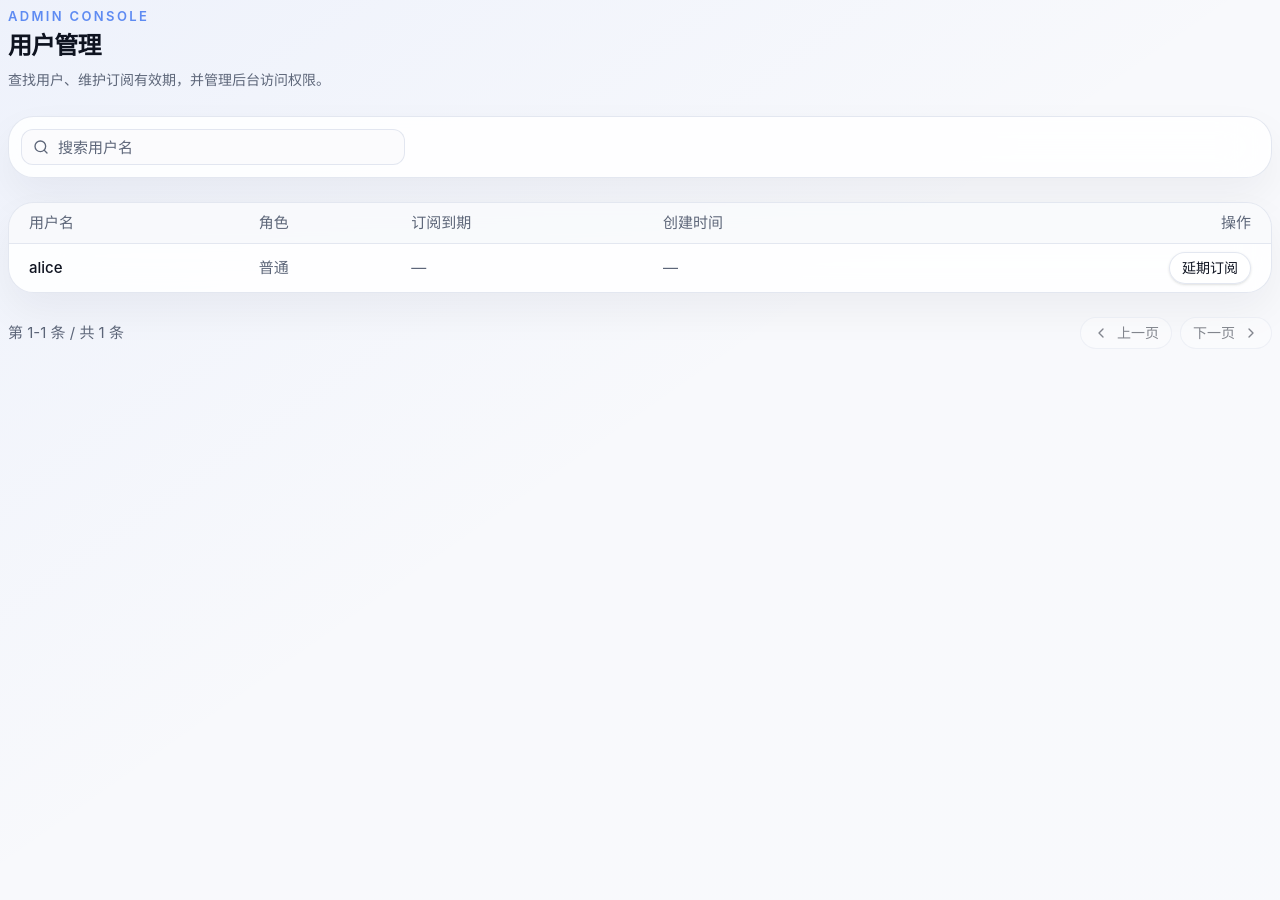
UsersPage › 延期订阅失败时在对话框内展示错误，且不关闭对话框
The image size is (1280, 900).
Expected: the text "alice" is shown, x1=9 y1=243 x2=251 y2=292
Click the button "延期订阅". click: coordinates (1210, 268)
box: x1=1169 y1=252 x2=1251 y2=284
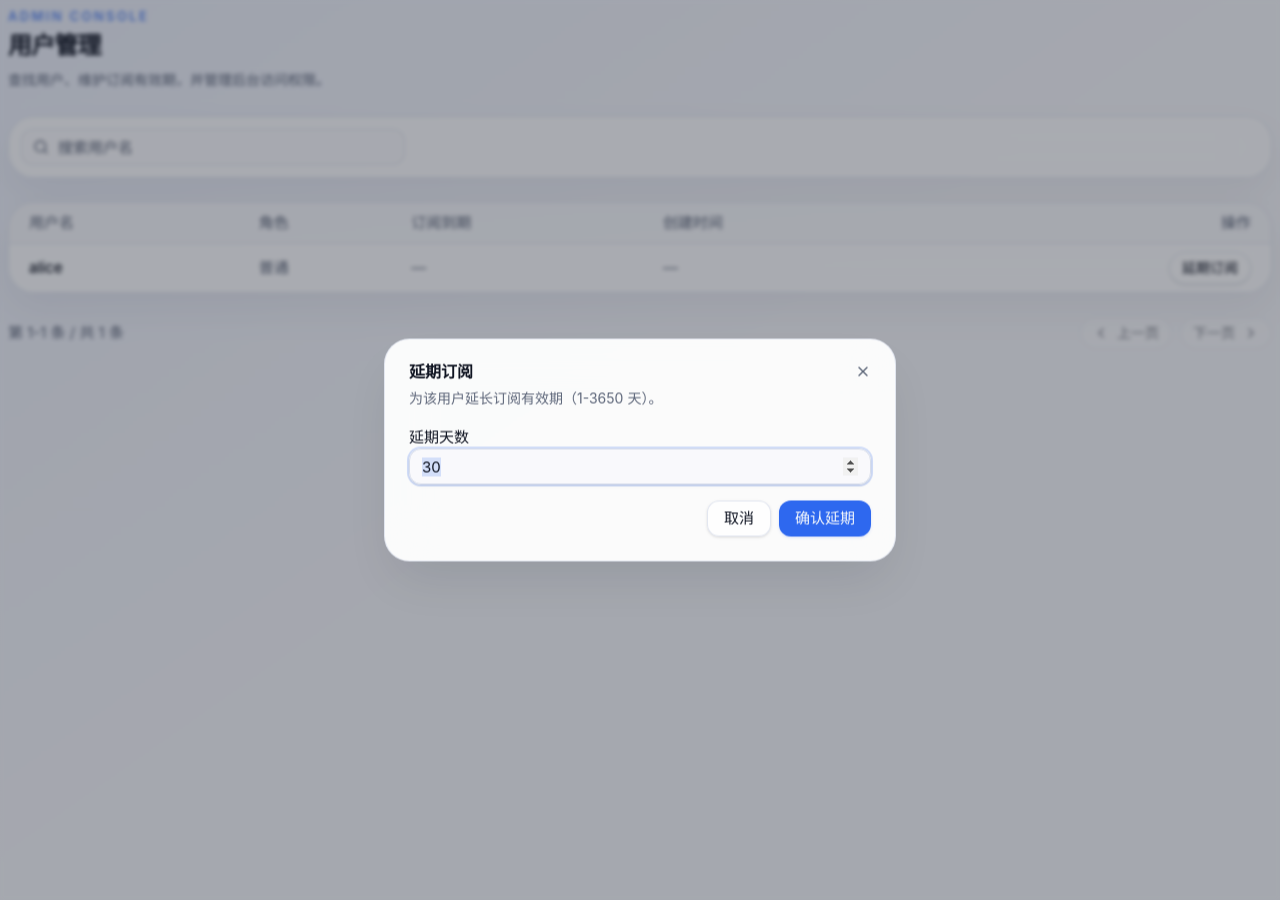
Now the heading "延期订阅" is shown, box x1=409 y1=362 x2=473 y2=382
Click the button "确认延期". click: coordinates (825, 518)
box: x1=779 y1=500 x2=871 y2=536
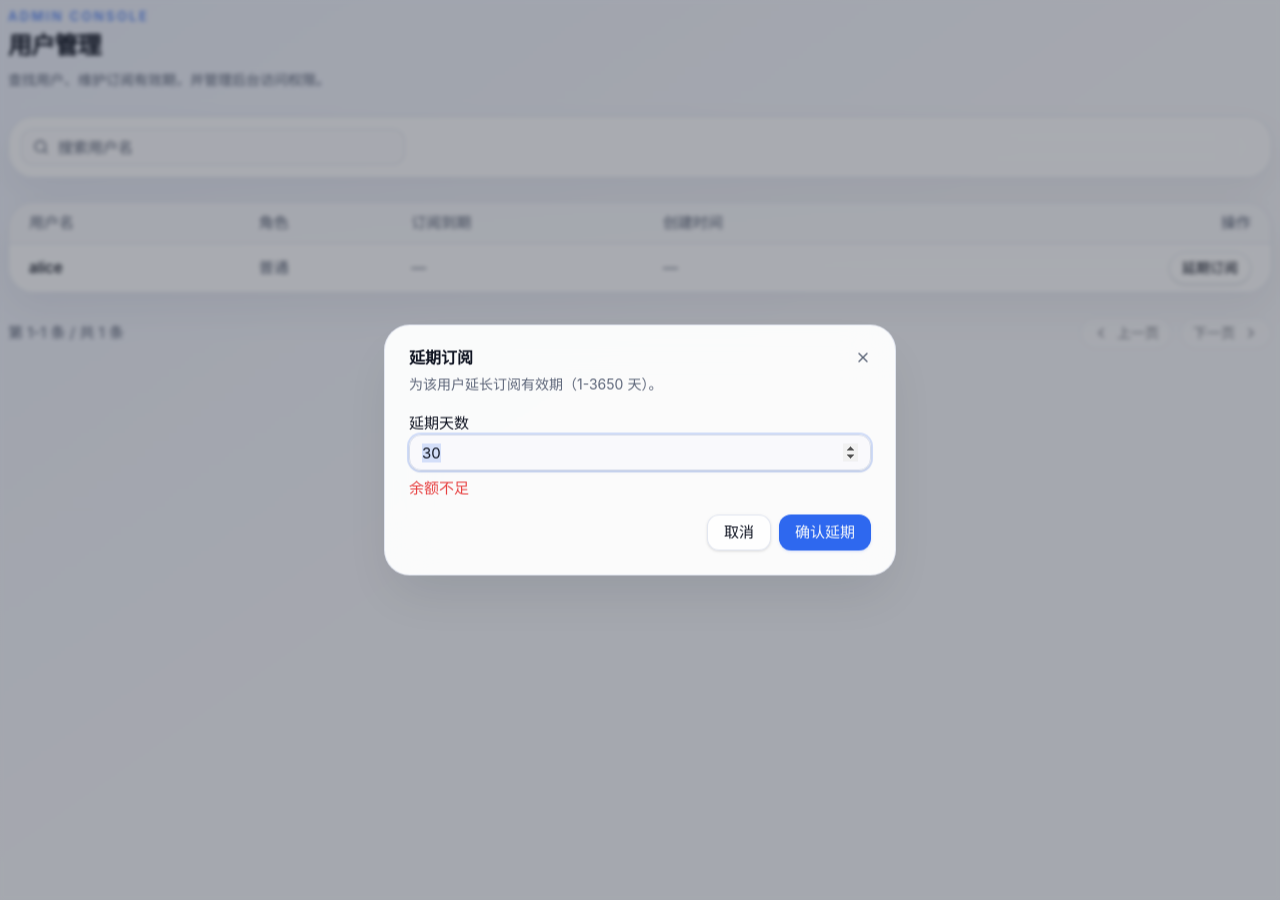
Now the heading "延期订阅" is shown, box x1=409 y1=348 x2=473 y2=368
Now the text "余额不足" is shown, box x1=409 y1=478 x2=469 y2=498
